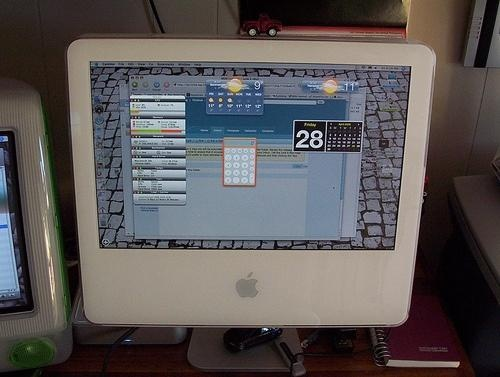tvmonitor: (66, 33, 437, 373), (1, 80, 74, 373)
